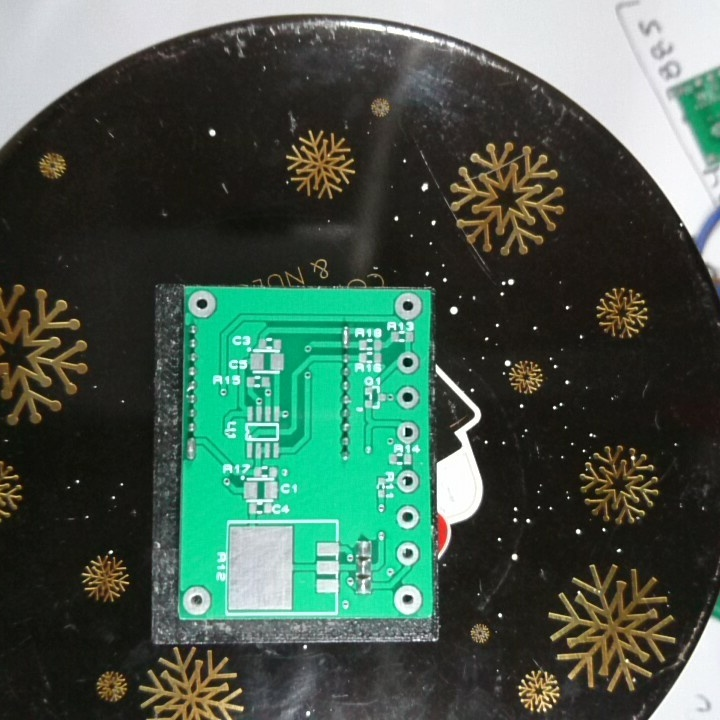F: (185, 286, 219, 322), (181, 583, 214, 618), (391, 583, 423, 615), (392, 291, 425, 322), (393, 466, 421, 496), (394, 383, 422, 412), (395, 504, 422, 534), (394, 540, 420, 569), (394, 420, 421, 446), (396, 350, 422, 376)
P: (339, 323, 352, 350), (185, 435, 197, 460)
